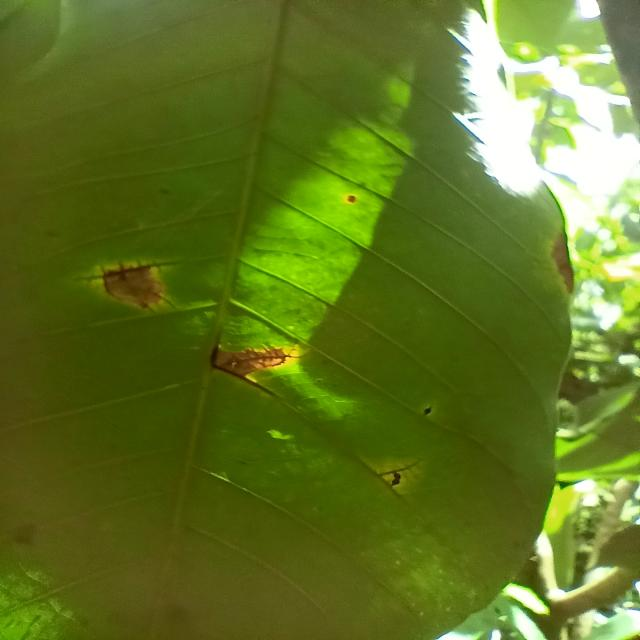Colletotrichum: (347, 195, 356, 203)
Corynespora: (72, 257, 179, 313), (209, 344, 303, 396), (375, 462, 419, 488)
